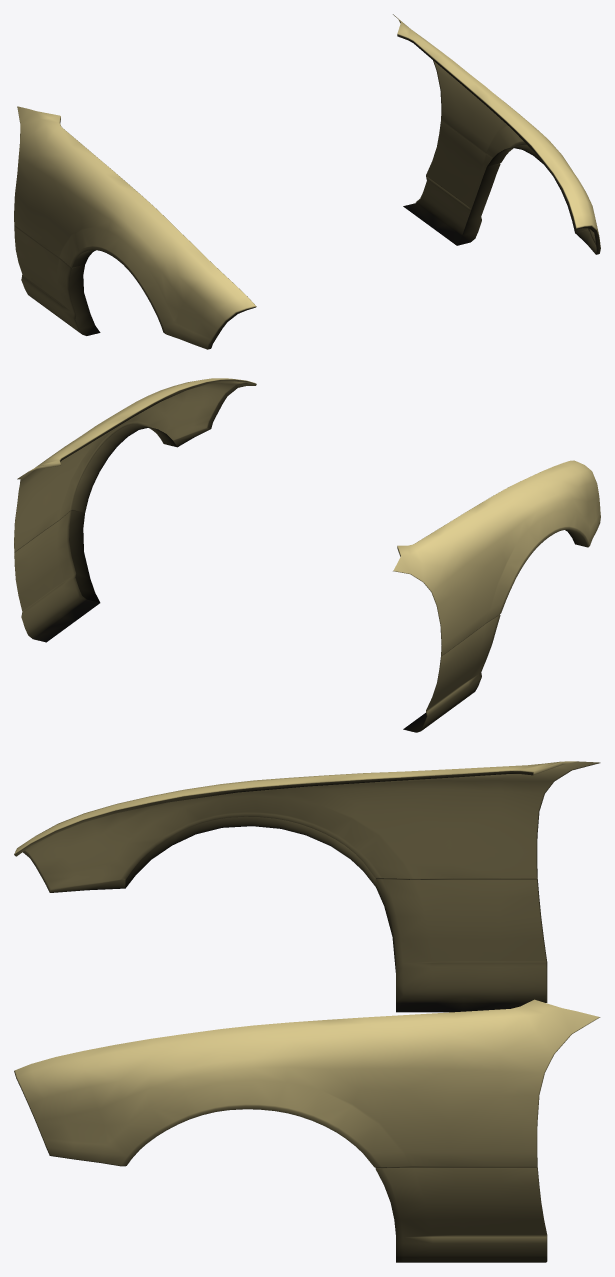
Rendered from MX5_Fender01_Duco.fbx.
3 renders of one model, top to bottom at view 1: azimuth 30°, elevation 25°; view 2: azimuth 150°, elevation 25°; view 3: azimuth 270°, elevation 25°, orthographic. The views are drawn at different scales.
Parts seen in each view (by area): view 1: MX5_Fender01_Duco; view 2: MX5_Fender01_Duco; view 3: MX5_Fender01_Duco.
Boxes of the visible parts, x1=… form: MX5_Fender01_Duco: x1=14, y1=14, x2=600, y2=349; MX5_Fender01_Duco: x1=14, y1=378, x2=600, y2=732; MX5_Fender01_Duco: x1=14, y1=761, x2=600, y2=1262.
Bounding box in the file's own units: 160 × 63.12 × 135.
